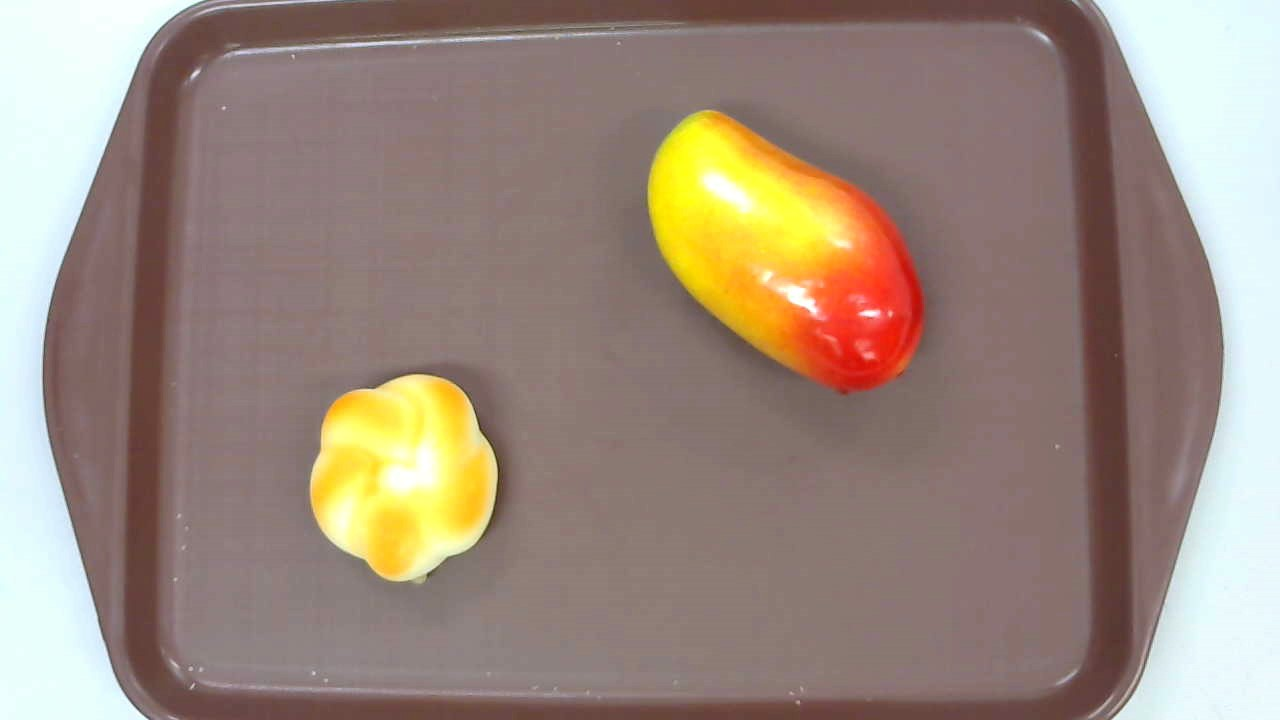red mango: (648, 109, 928, 396)
twist bread: (310, 374, 497, 584)
